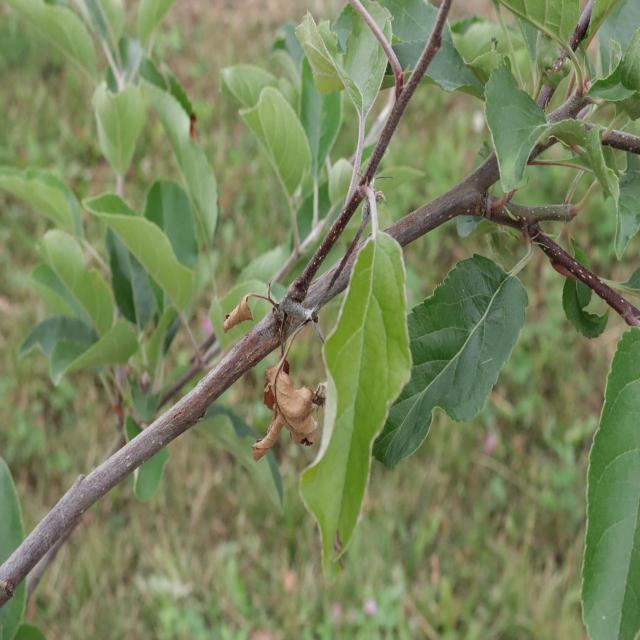-FireBlight-: (222, 283, 316, 452)
